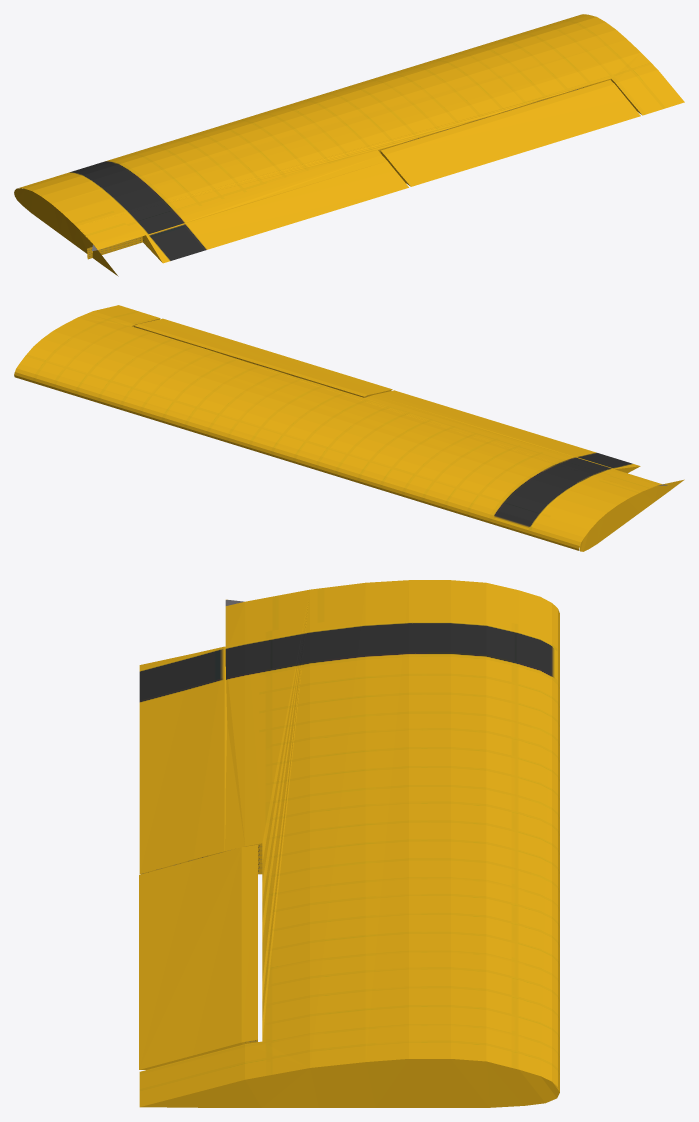
The model's file is ThrushWing_LOD0.gltf.
The picture shows the model from 3 angles, top to bottom: view 1: azimuth 30°, elevation 25°; view 2: azimuth 150°, elevation 25°; view 3: azimuth 270°, elevation 25°; orthographic projection. The views are drawn at different scales.
Parts seen in each view (by area): view 1: node1; view 2: node1; view 3: node1.
Boxes of the visible parts, x1,y1,x2,y2 form: node1: (14, 14, 684, 276); node1: (14, 305, 684, 551); node1: (139, 580, 559, 1107).
Size of the model in its own units: 7.32 by 0.74 by 2.33.
